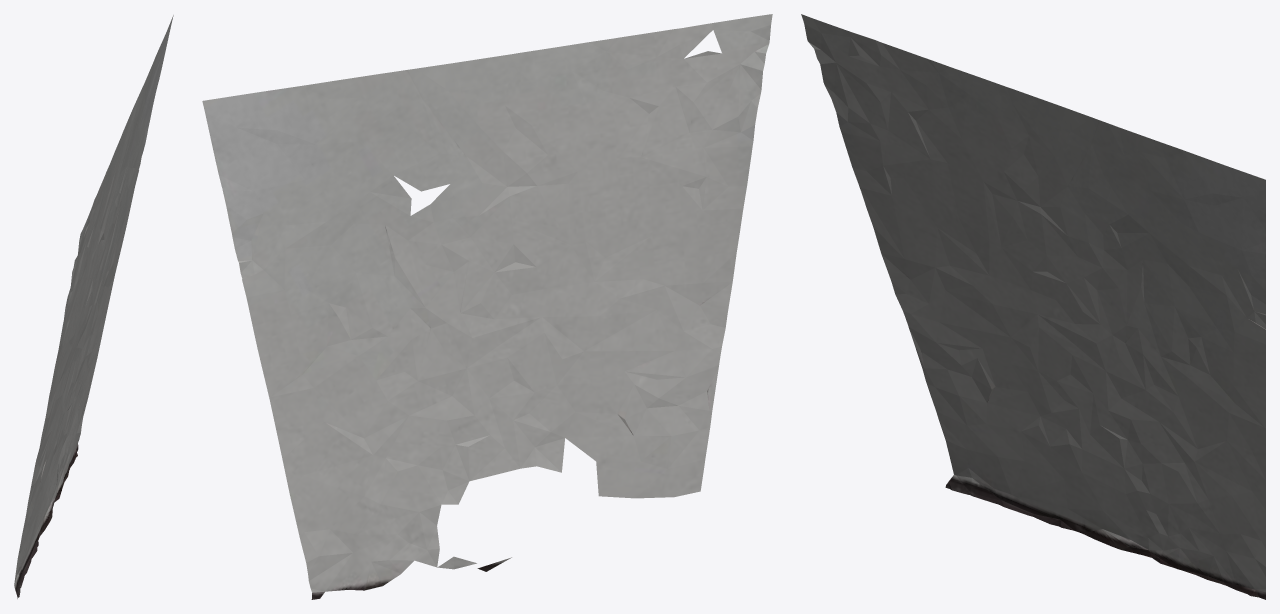
3 renders of one model, left to right at view 1: azimuth 30°, elevation 25°; view 2: azimuth 150°, elevation 25°; view 3: azimuth 270°, elevation 25°, orthographic. The views are drawn at different scales.
Size of the model in its own units: 1.26 by 1.67 by 1.49.
Materials: 2 (2 with a texture image).
